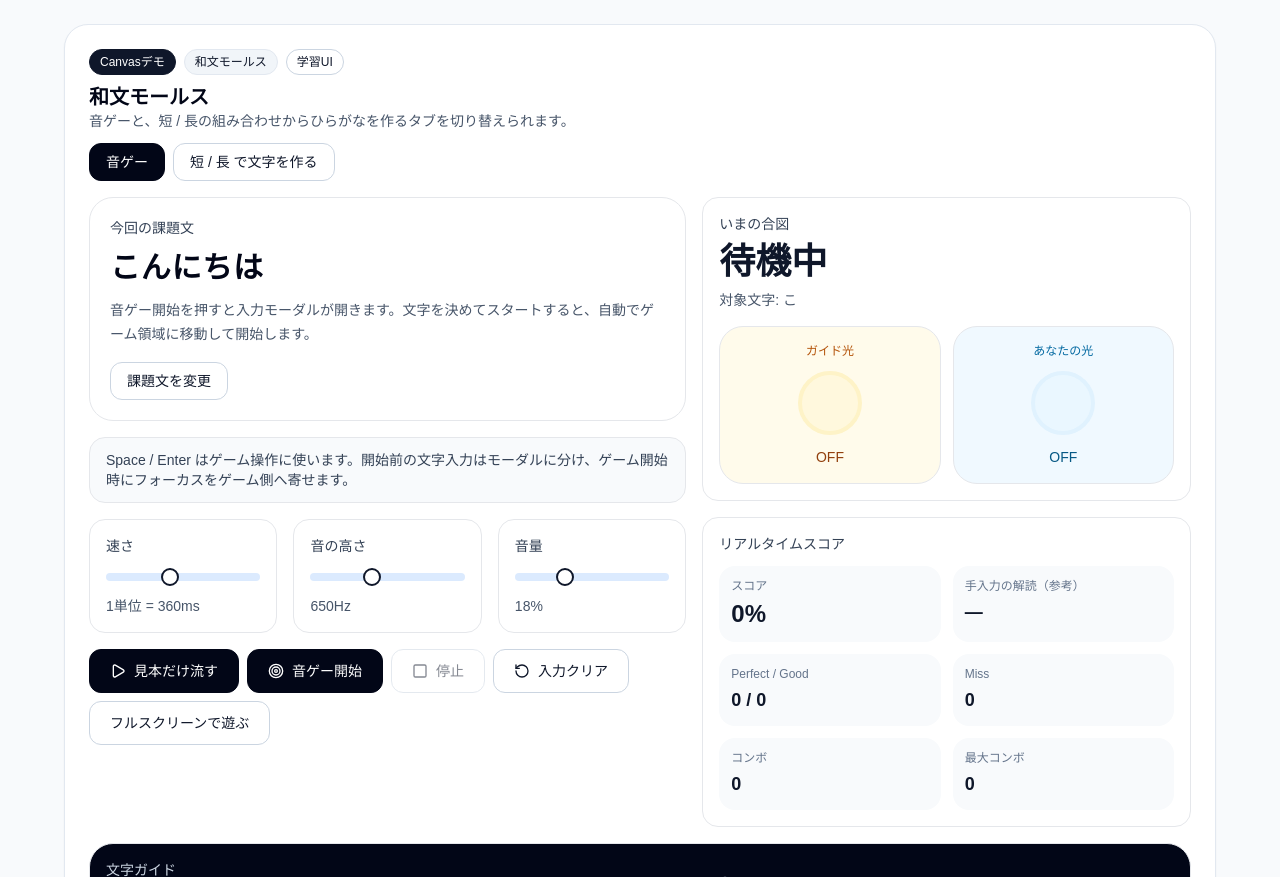
Test: keyboard play controls › captures a short Space press as a dot during a running game
The width and height of the screenshot is (1280, 877).
Click the button "音ゲー開始".
click(315, 671)  # box 247,649 -> 383,693
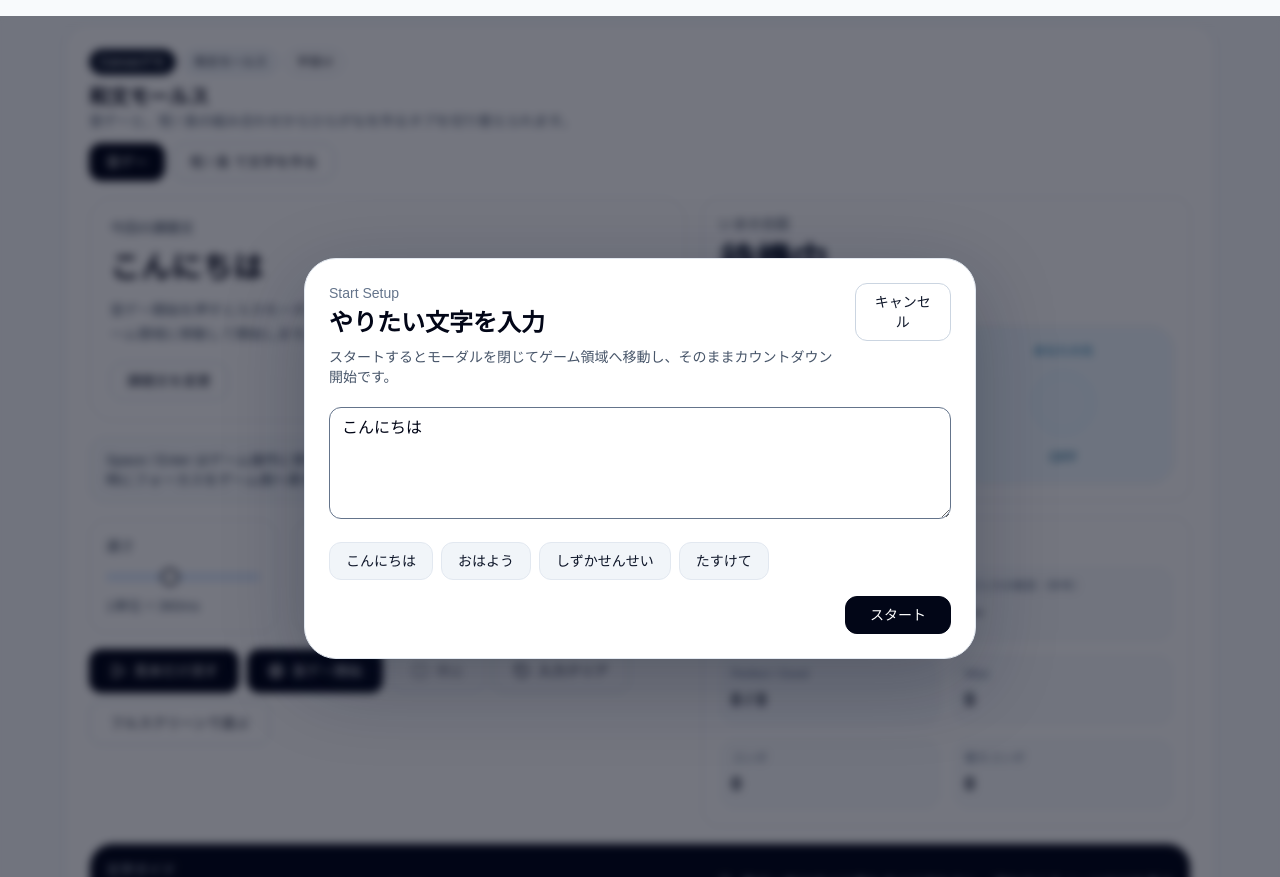
Click the button "スタート".
click(898, 614)  # box 845,596 -> 951,634
Wait 2225 ms
(page scrolled)
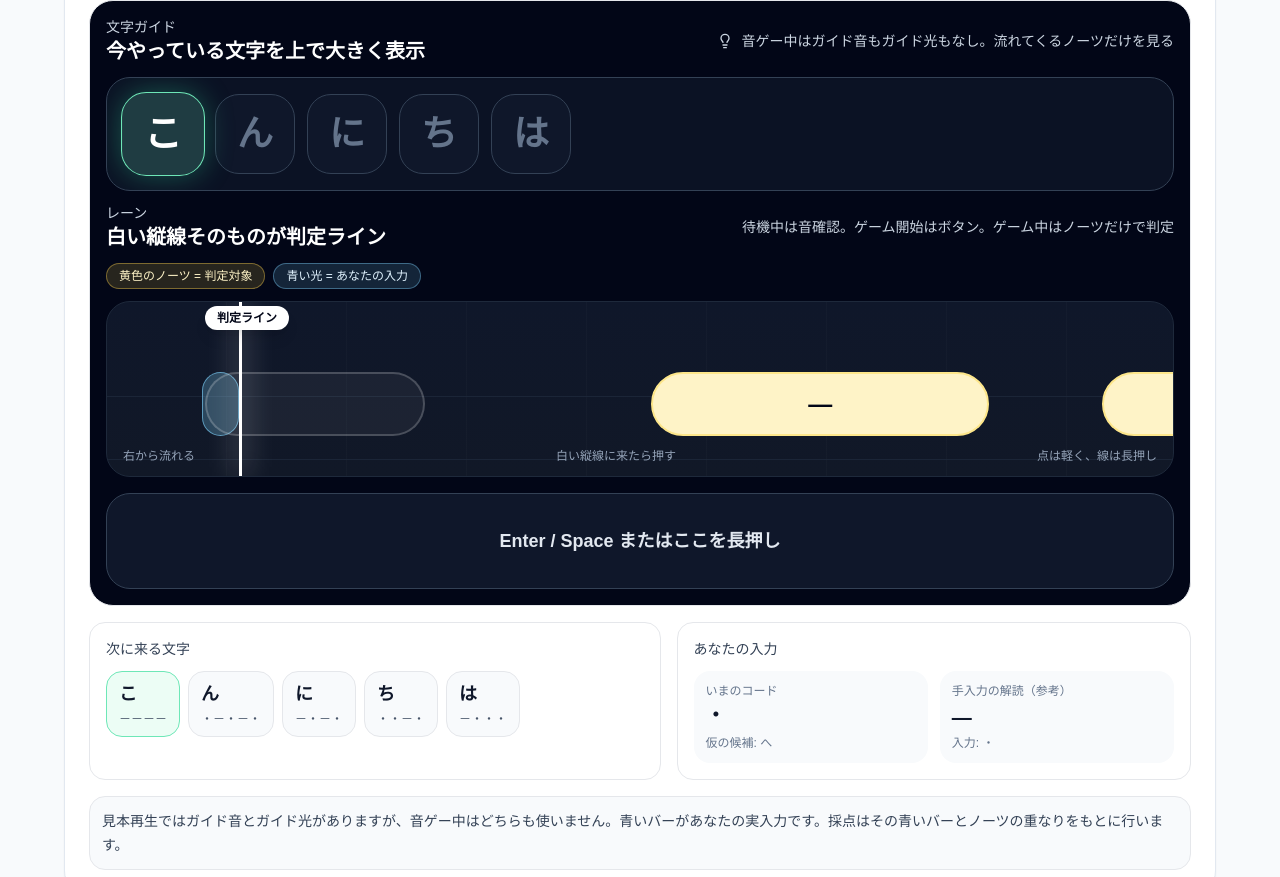
Now the button "Enter / Space またはここを長押し" is shown, box 106,493 -> 1174,589
Now the text "入力: ・" is shown, box 952,736 -> 994,750
